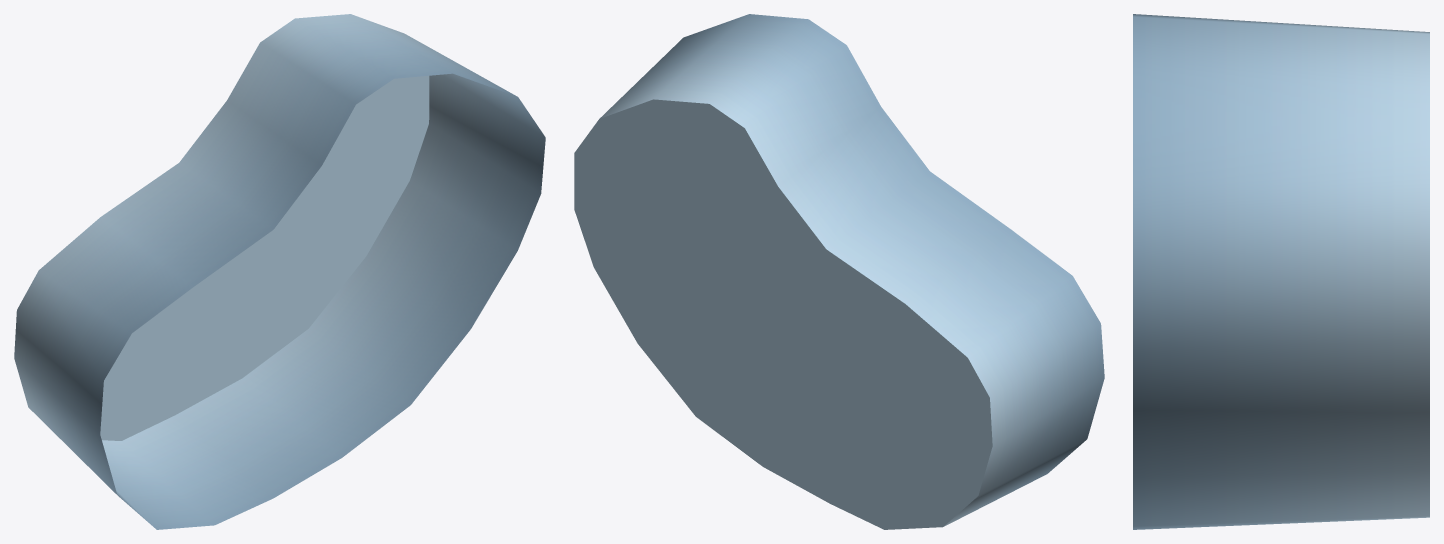
File: Step 03.FBX
3 views of the same model, side by side, from view 1: azimuth 30°, elevation 25°; view 2: azimuth 150°, elevation 25°; view 3: azimuth 270°, elevation 25° (orthographic). The views are drawn at different scales.
Visible parts, largest first — view 1: Step 03; view 2: Step 03; view 3: Step 03.
Boxes of the visible parts, box(x1,y1,x2,y2) form: Step 03: box(14, 14, 545, 529); Step 03: box(574, 14, 1104, 529); Step 03: box(1133, 14, 1429, 529).
Size of the model in its own units: 230 by 199 by 88.26.
1 material, 1 textured.
